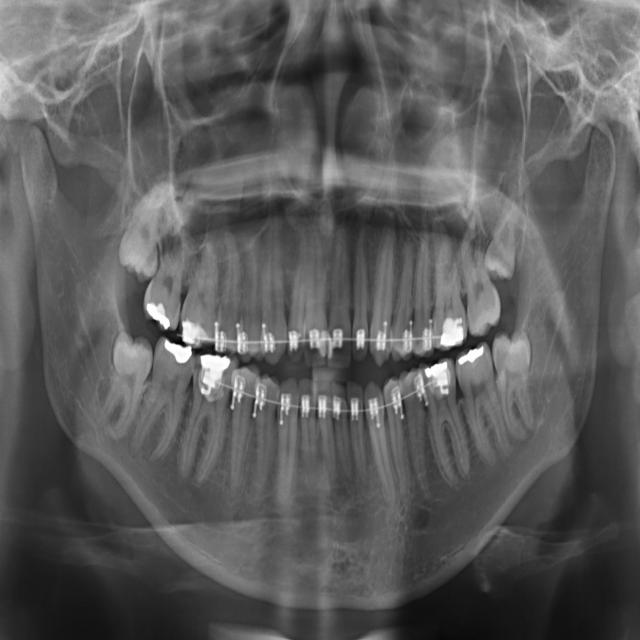AmalgamRestoration: (190, 351, 238, 402), (141, 295, 179, 338), (424, 352, 453, 406), (154, 338, 200, 369), (457, 335, 486, 382), (435, 309, 467, 348)
ImpactedTooth: (84, 328, 157, 437), (493, 314, 547, 442), (115, 182, 170, 281), (481, 192, 537, 282)
